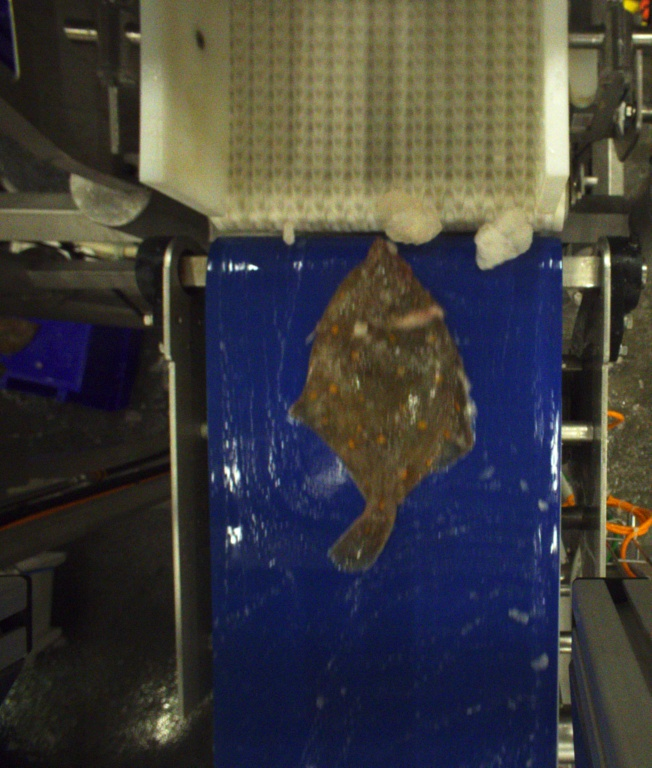PLE: (296, 238, 476, 572)
